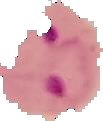parasitized: (44, 42, 90, 110), (34, 17, 67, 51)
